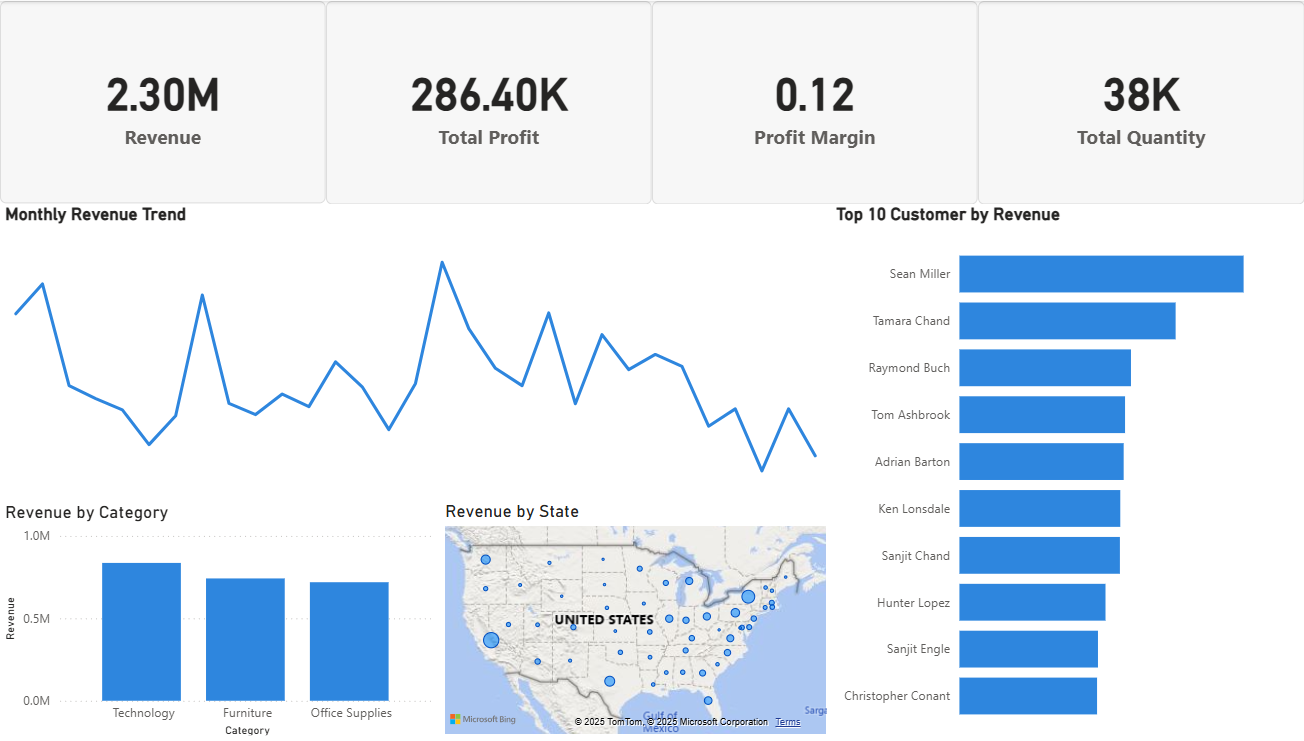

Layout of this report page (visuals, bound fields, positions):
{"tool":"powerbi","page":{"name":"Page 1","canvas":[1280,720],"ordinal":0},"visuals":[{"type":"card","fields":{"Values":["Sample - Superstore.Revenue"]},"box":[9.7,0,317,197.4],"z":0},{"type":"card","fields":{"Values":["Sample - Superstore.Total Profit"]},"box":[327.1,0,317,197.6],"z":1000},{"type":"card","fields":{"Values":["Sample - Superstore.Profit Margin"]},"box":[644.4,0,317,197.6],"z":2000},{"type":"card","fields":{"Values":["Sample - Superstore.Total Quantity"]},"box":[961.7,0,318,197.6],"z":3000},{"type":"lineChart","title":"Monthly Revenue Trend","fields":{"Y":["Sample - Superstore.Revenue"],"Category":["Sample - Superstore.Order Date.Variation.Date Hierarchy.Year","Sample - Superstore.Order Date.Variation.Date Hierarchy.Quarter","Sample - Superstore.Order Date.Variation.Date Hierarchy.Month","Sample - Superstore.Order Date.Variation.Date Hierarchy.Day"]},"box":[9.7,197.6,808.9,280.3],"z":4000},{"type":"clusteredColumnChart","fields":{"Category":["Sample - Superstore.Category"],"Y":["Sample - Superstore.Revenue"]},"box":[9.7,487.3,428,232.5],"z":5000},{"type":"clusteredBarChart","title":"Top 10 Customer by Revenue","fields":{"Category":["Sample - Superstore.Customer Name"],"Y":["Sample - Superstore.Revenue"]},"box":[818.6,197.6,461.4,520.8],"z":6000},{"type":"map","fields":{"Category":["Sample - Superstore.State"],"Size":["Sample - Superstore.Revenue"]},"box":[438,487,381,232],"z":7000}]}

Visuals, with their boxes in screenshot pixels (x1, y1, x2, y2), scaled from the page's 1280x720 canvas onto the 1304x741 screenshot:
card - Sample - Superstore.Revenue: bbox=[10, 0, 333, 203]
card - Sample - Superstore.Total Profit: bbox=[333, 0, 656, 203]
card - Sample - Superstore.Profit Margin: bbox=[656, 0, 979, 203]
card - Sample - Superstore.Total Quantity: bbox=[980, 0, 1303, 203]
"Monthly Revenue Trend" lineChart: bbox=[10, 203, 834, 492]
clusteredColumnChart - Sample - Superstore.Category x Sample - Superstore.Revenue: bbox=[10, 502, 446, 740]
"Top 10 Customer by Revenue" clusteredBarChart: bbox=[834, 203, 1303, 739]
map - Sample - Superstore.State x Sample - Superstore.Revenue: bbox=[446, 501, 834, 740]
